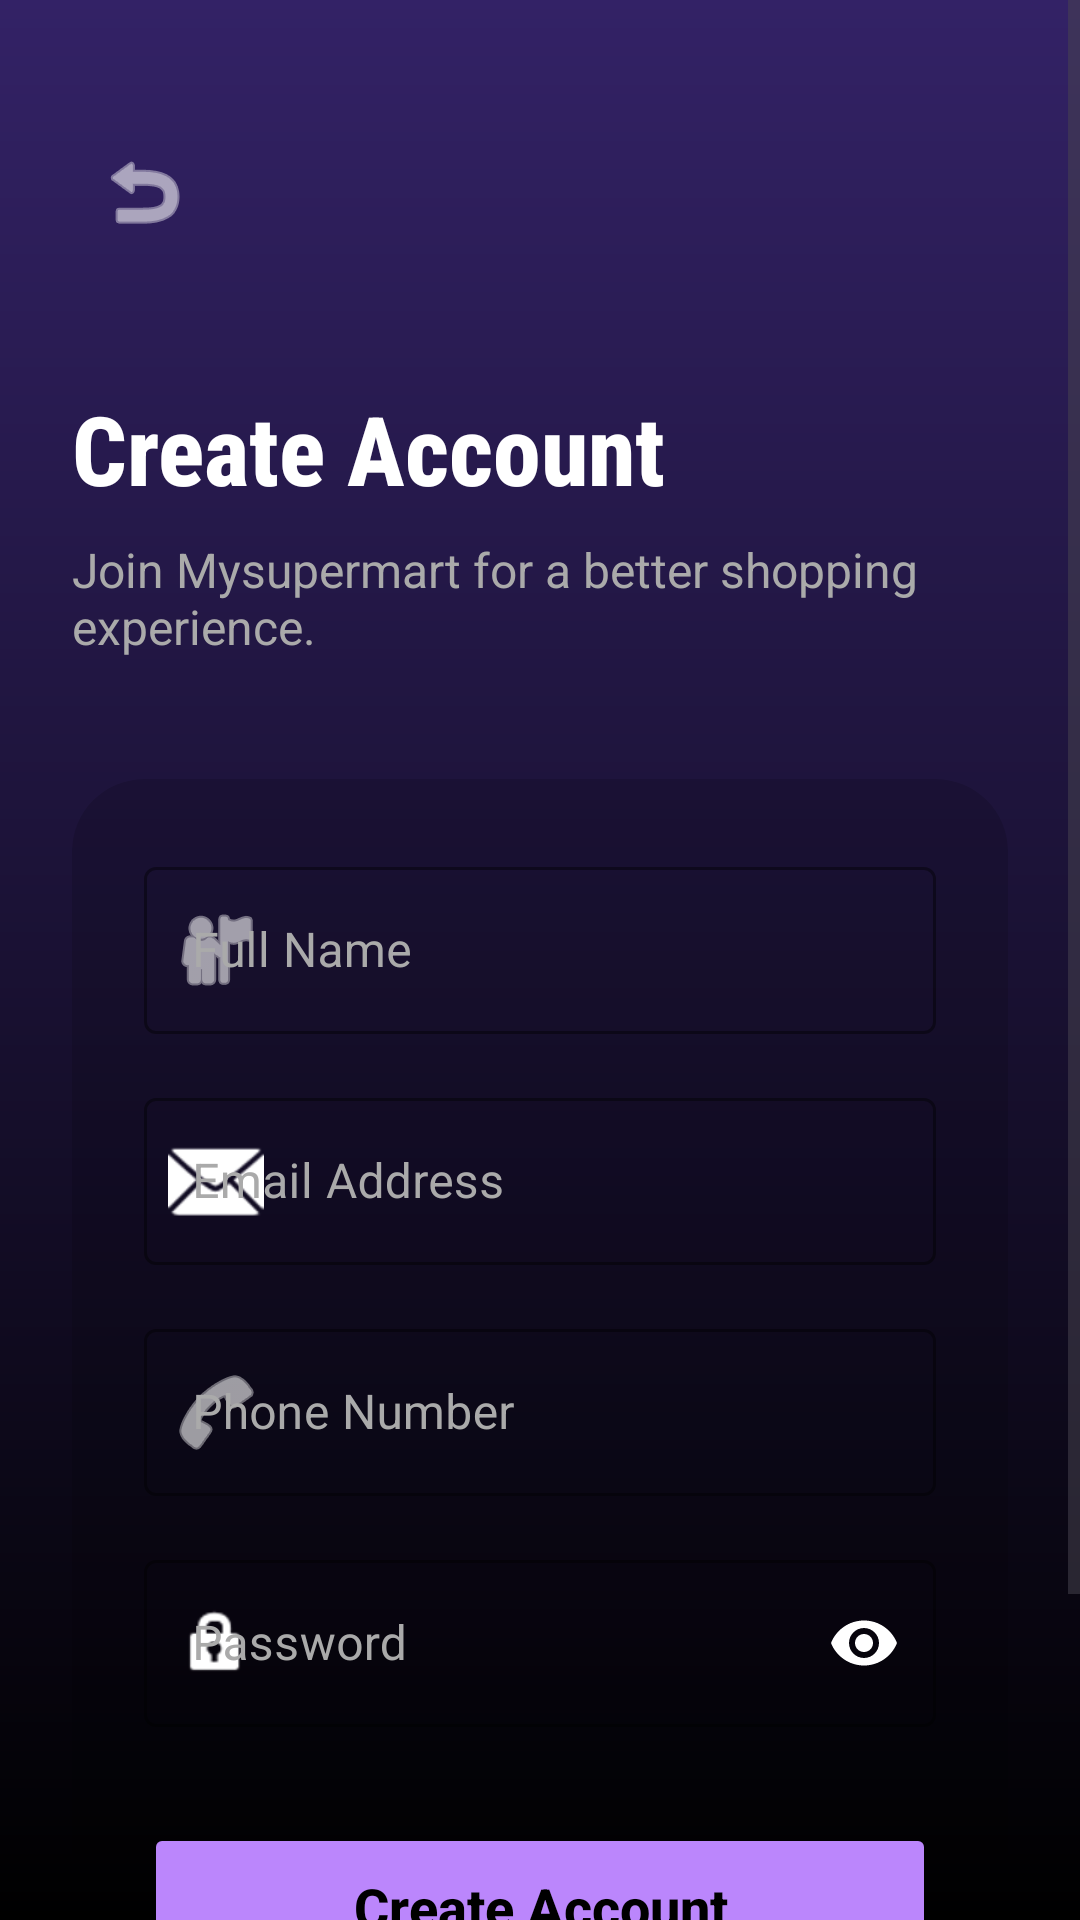

Icons on this 1080 × 1920 Android screen, each with its box as box=[x1, y1, x2, y2]:
revert: box=[111, 161, 180, 224]
